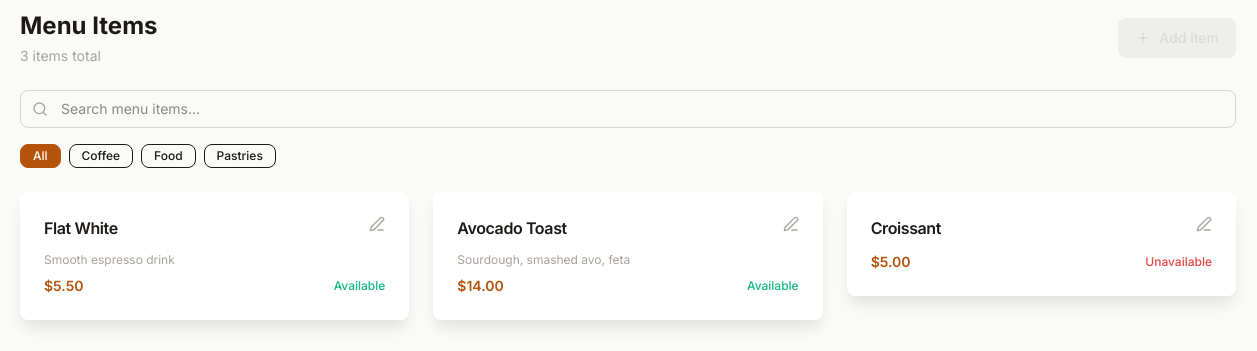
Test: MenuItemsGrid › shows empty state when no items match
Step 1. Type "nonexistent" into the field with placeholder "Search menu items..." → (628, 109), box [20,90,1236,128]
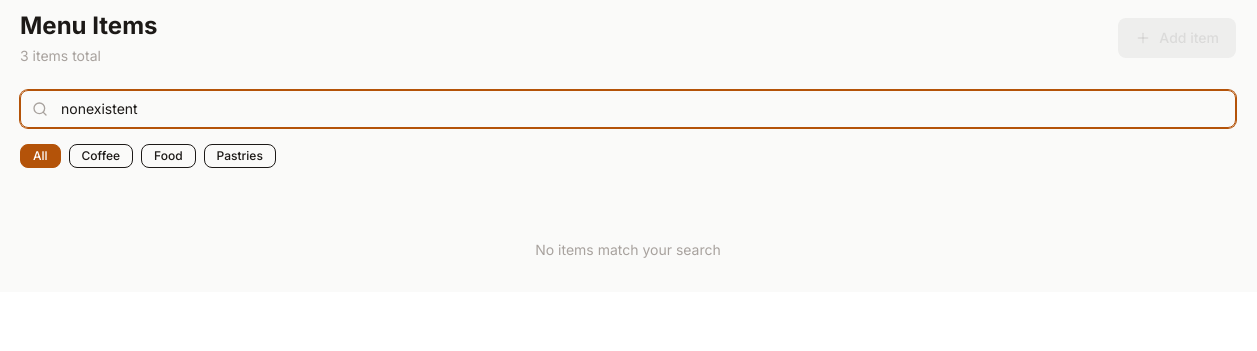
expect the text "No items match your search" is shown: met, box [535,241,721,258]
